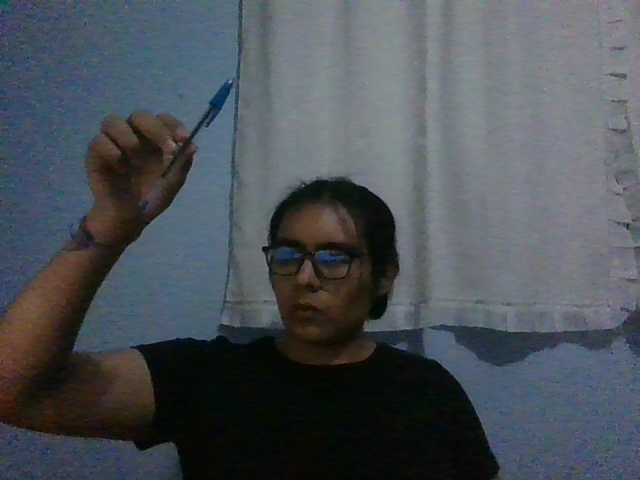pluma: (136, 77, 234, 211)
